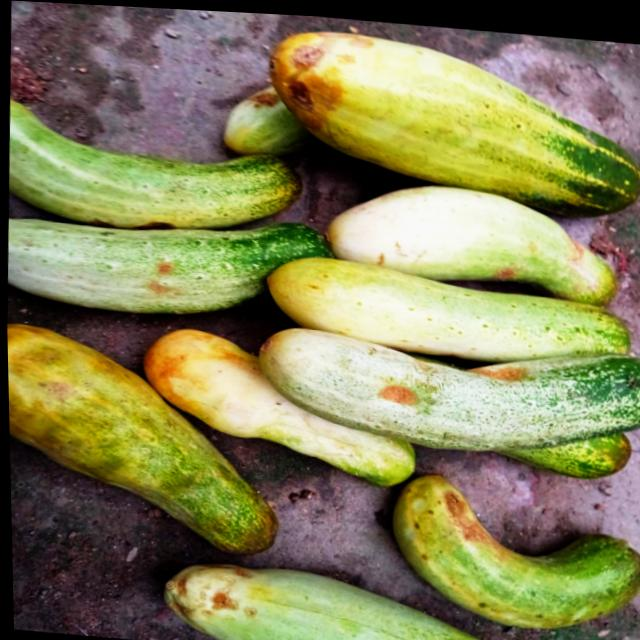Belly-Rot: (244, 18, 376, 136), (163, 555, 262, 632), (440, 481, 490, 548), (458, 346, 533, 387), (90, 211, 178, 235), (373, 370, 418, 413), (147, 250, 182, 299), (489, 252, 519, 278), (567, 230, 586, 262)
